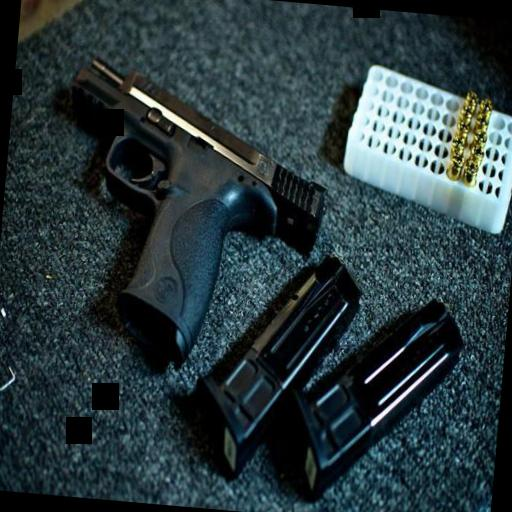Handgun: (41, 49, 332, 383)
